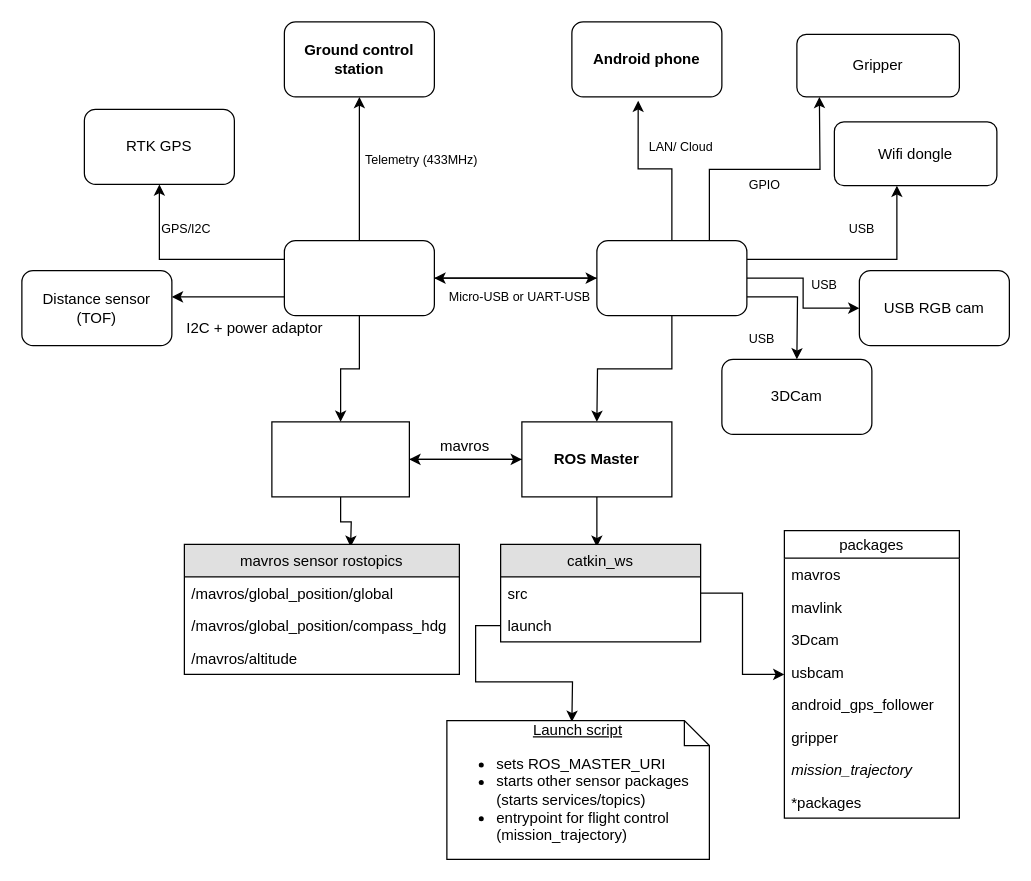
The diagram is 1031 pixels wide and 881 high, and some of its shapes have lost their labels. Each missing label, with the centre of its shape:
"Odroid" goes at (671,277).
"Pixhawk" goes at (358,277).
"PX4" goes at (340,459).
